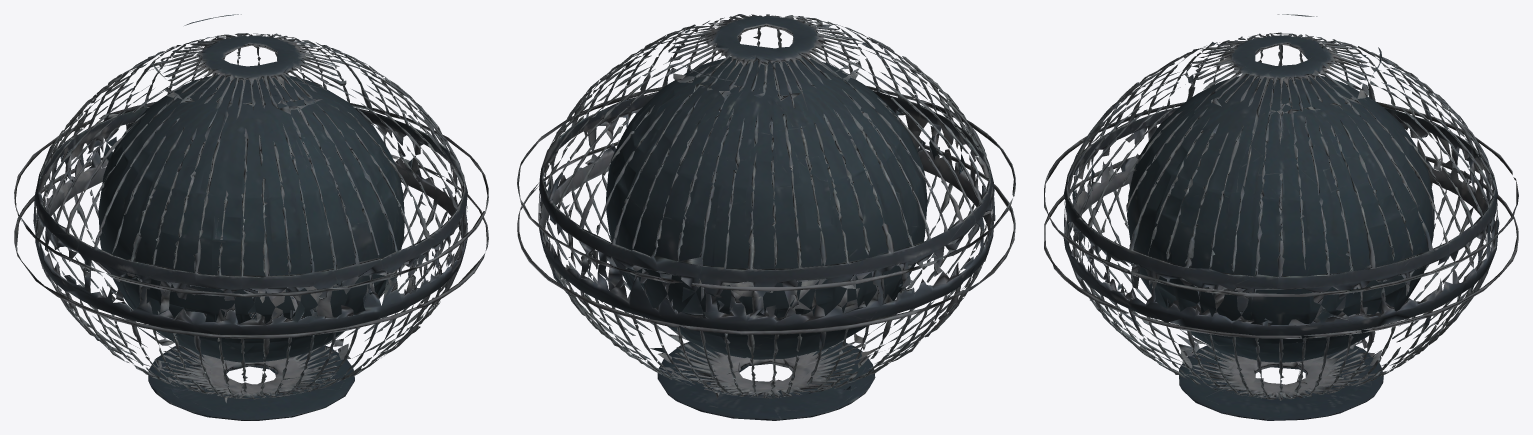
Rendered from Env_TheaterDome.glb.
3 views of the same model, side by side, from view 1: azimuth 30°, elevation 25°; view 2: azimuth 150°, elevation 25°; view 3: azimuth 270°, elevation 25° (orthographic). The views are drawn at different scales.
Size of the model in its own units: 1.89 by 1.42 by 1.89.
1 material, 1 textured.
